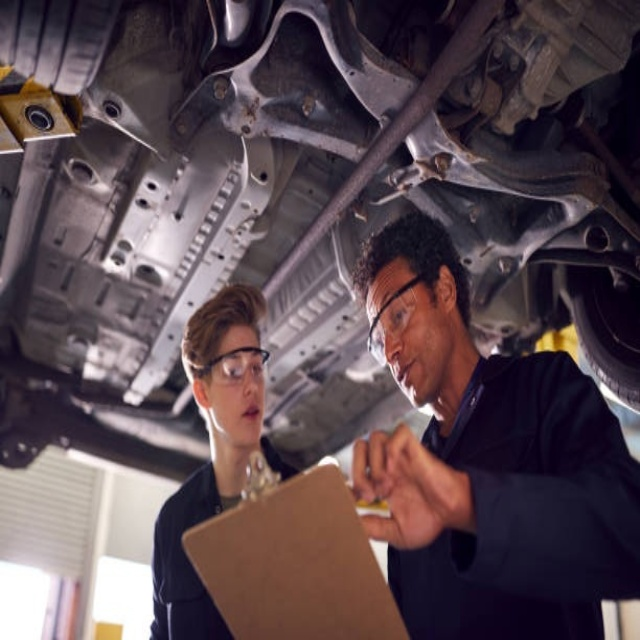Gafas: (368, 274, 428, 363), (191, 346, 271, 384)
Sin_guantes: (352, 419, 464, 552)
Sin_mascara: (392, 351, 427, 400), (231, 397, 266, 442)
